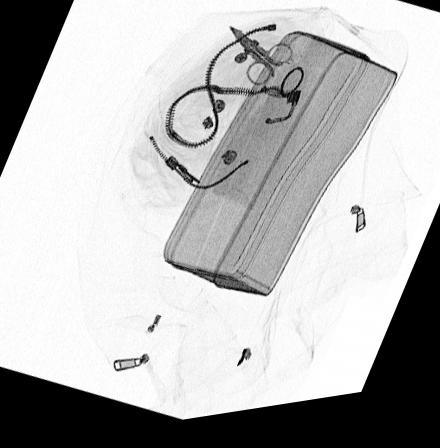Scissors: (226, 32, 294, 94)
